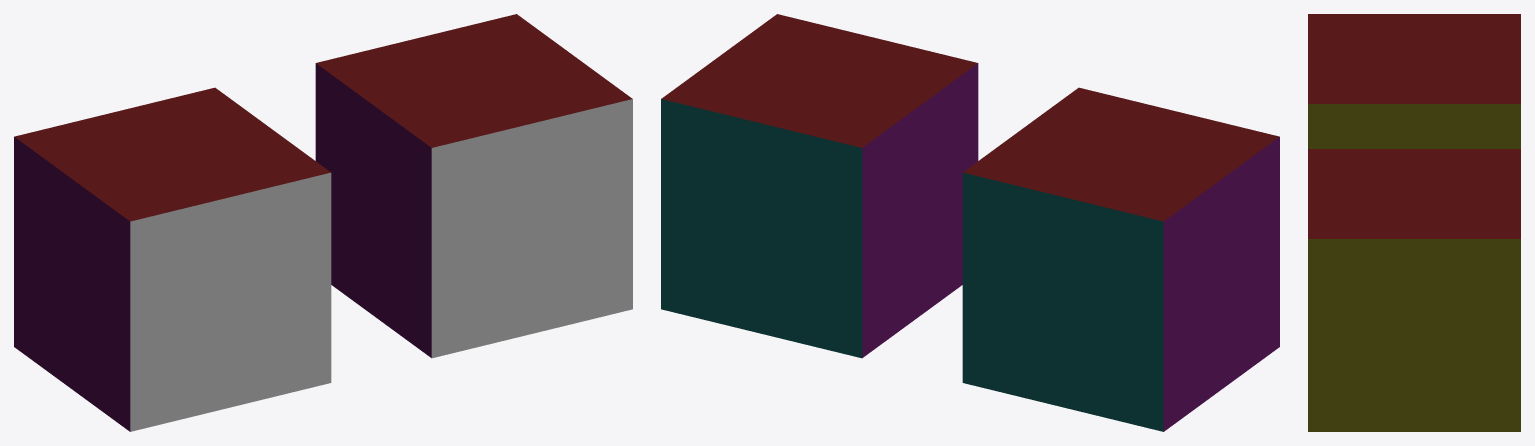
Rendered from two_cubes.obj.
The picture shows the model from 3 angles, left to right: view 1: azimuth 30°, elevation 25°; view 2: azimuth 150°, elevation 25°; view 3: azimuth 270°, elevation 25°; orthographic projection. The views are drawn at different scales.
Visible parts, largest first — view 1: Cube.001, Cube.002; view 2: Cube.001, Cube.002; view 3: Cube.002, Cube.001.
Part boxes in pixels (x1,y1,x2,y2): Cube.001: [14, 87, 331, 431]; Cube.002: [315, 14, 632, 358]; Cube.001: [962, 87, 1279, 431]; Cube.002: [661, 14, 978, 358]; Cube.002: [1308, 149, 1520, 431]; Cube.001: [1308, 14, 1520, 148].
Size of the model in its own units: 5 by 2 by 2.
